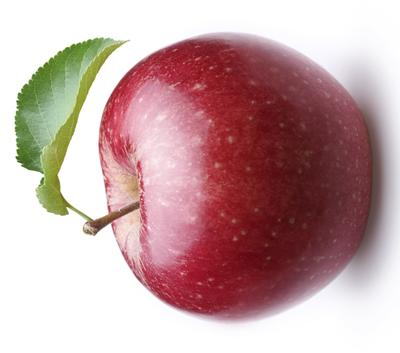apple: (0, 0, 400, 353)
